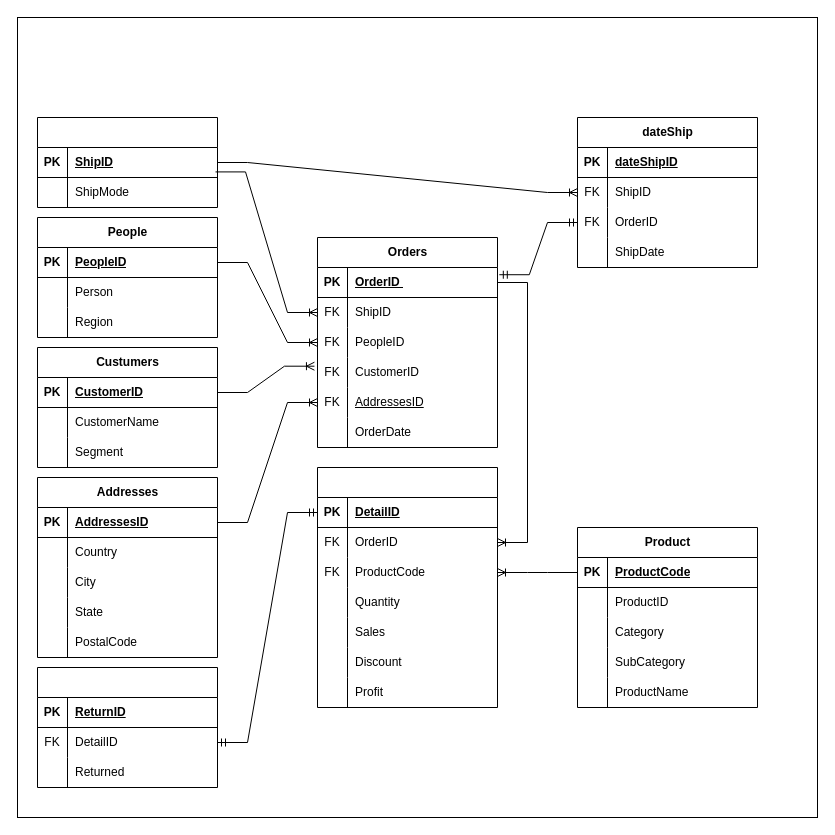
Image size: 835x835. Some labels were removed from this diagram. Here are the shapes that lost their labels. From the top down, the box of each, then its label:
(36, 116, 218, 208): typeShip
(316, 466, 498, 708): OrderDetails
(36, 666, 218, 788): Returns
